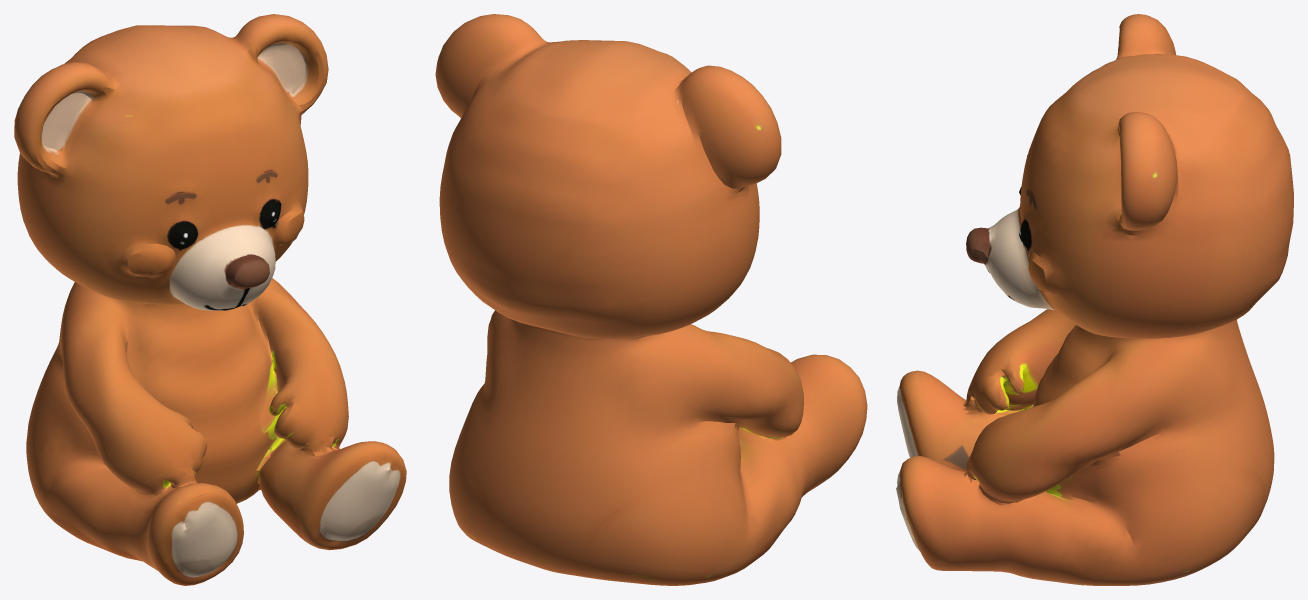
The model's file is Meshy_AI_a_stylized_teddy_bear_0428225227_texture.fbx.
3 renders of one model, left to right at view 1: azimuth 30°, elevation 25°; view 2: azimuth 150°, elevation 25°; view 3: azimuth 270°, elevation 25°, orthographic. The views are drawn at different scales.
Visible parts, largest first — view 1: Mesh0; view 2: Mesh0; view 3: Mesh0.
Boxes of the visible parts, bbox=[...] form: Mesh0: bbox=[14, 14, 406, 585]; Mesh0: bbox=[435, 14, 867, 585]; Mesh0: bbox=[896, 14, 1293, 585].
Size of the model in its own units: 135 by 191 by 149.
1 material, 1 textured.
